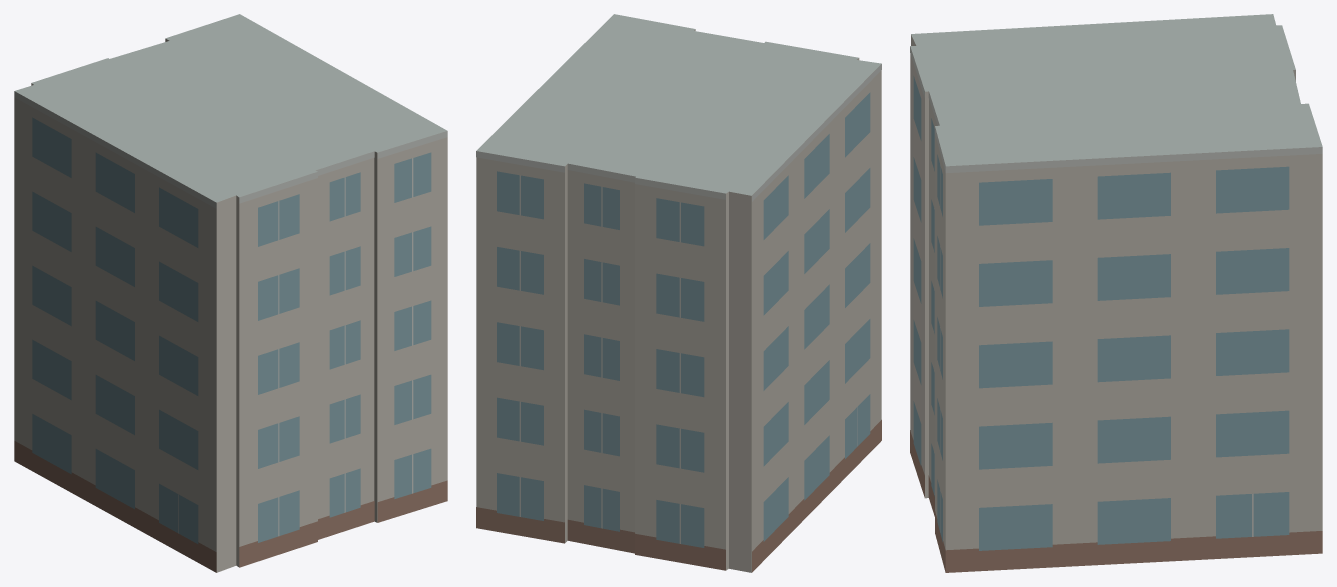
File: survey-upis-32747911.glb
3 views of the same model, side by side, from view 1: azimuth 30°, elevation 25°; view 2: azimuth 150°, elevation 25°; view 3: azimuth 270°, elevation 25° (orthographic). The views are drawn at different scales.
Parts seen in each view (by area): view 1: survey-upis-32747911.tmp; view 2: survey-upis-32747911.tmp; view 3: survey-upis-32747911.tmp.
Boxes of the visible parts, box(x1,y1,x2,y2) form: survey-upis-32747911.tmp: box(14, 14, 447, 572); survey-upis-32747911.tmp: box(476, 14, 881, 572); survey-upis-32747911.tmp: box(910, 14, 1322, 572).
Bounding box in the file's own units: 11.58 × 14.4 × 13.25.
